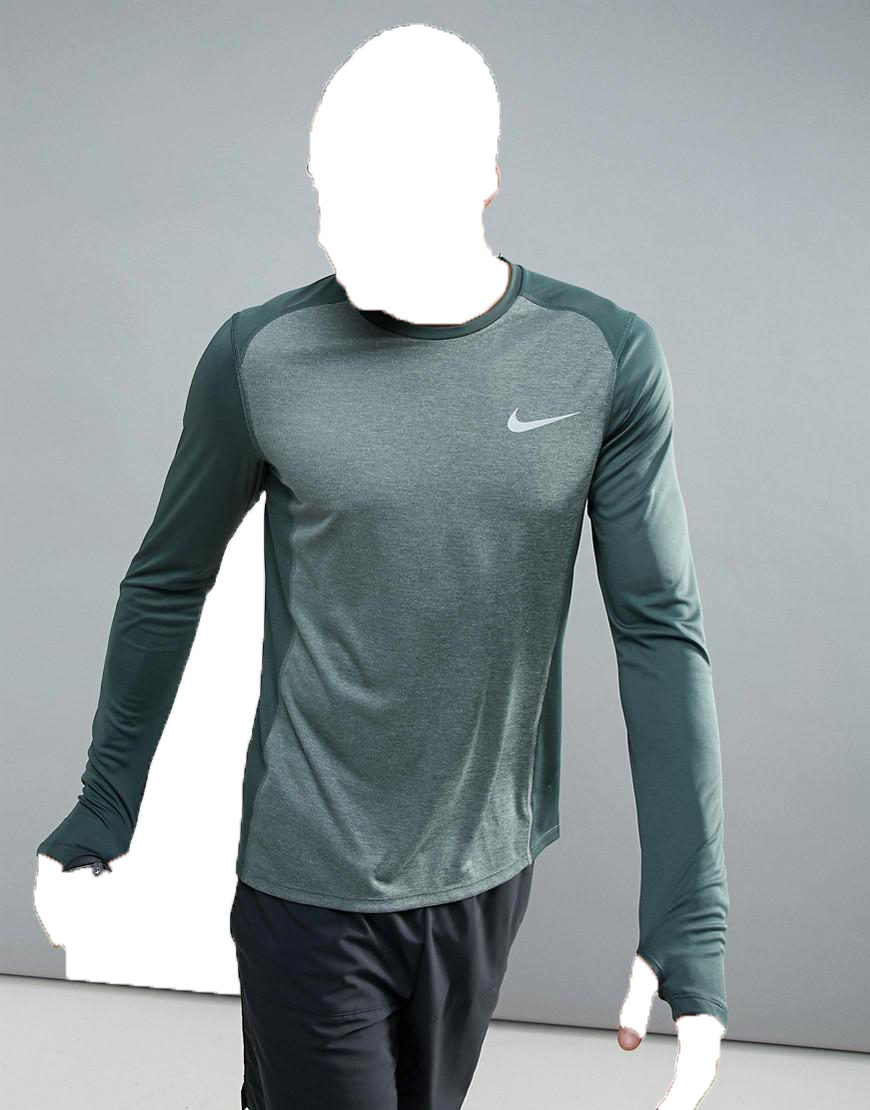teeshirt: (42, 261, 754, 1029)
